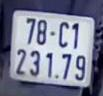1: (71, 19, 81, 48), (45, 51, 53, 78)
2: (14, 48, 26, 75)
3: (28, 47, 40, 77)
7: (25, 17, 36, 45), (61, 51, 71, 78)
8: (37, 17, 50, 48)
9: (73, 50, 88, 84)
C: (57, 18, 71, 49)
